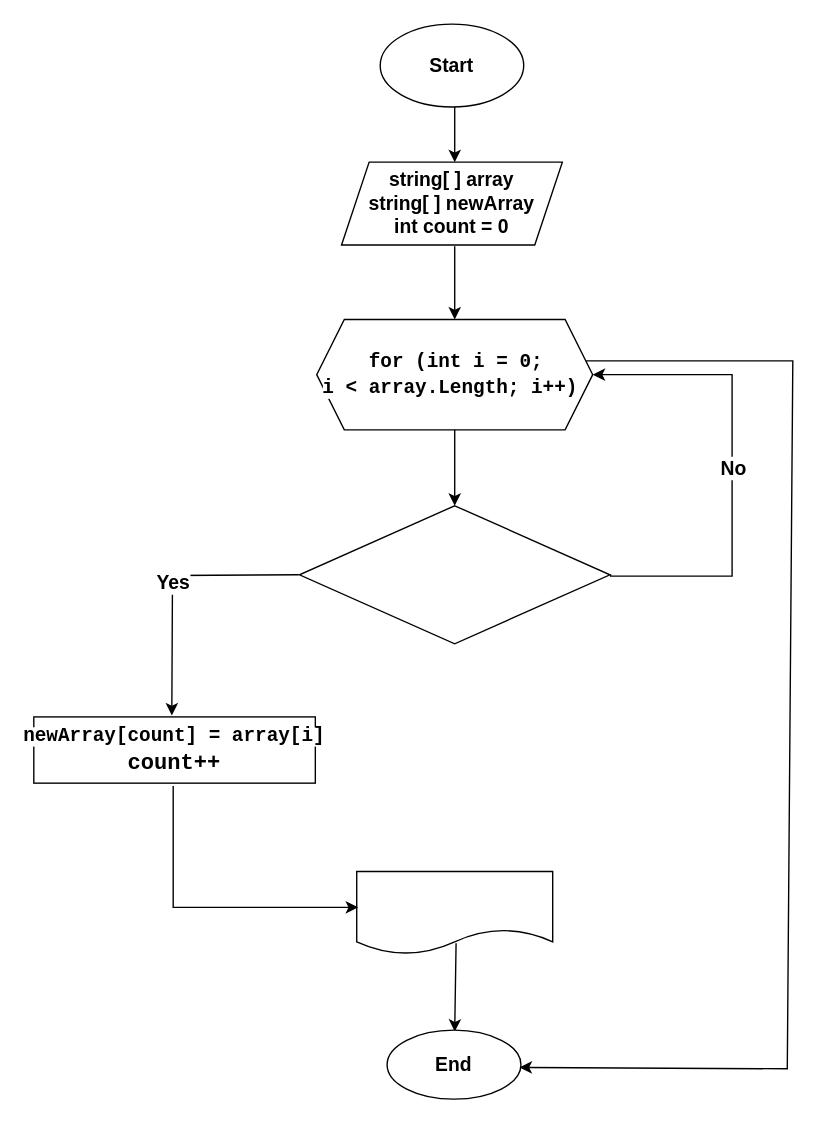
The diagram is 828 pixels wide and 1123 high, and some of its shapes have lost their labels. Each missing label, with the box of its shape:
if(array[i].Length <= 3): (298, 504, 610, 644)
string[ ] newArray: (355, 870, 553, 954)
